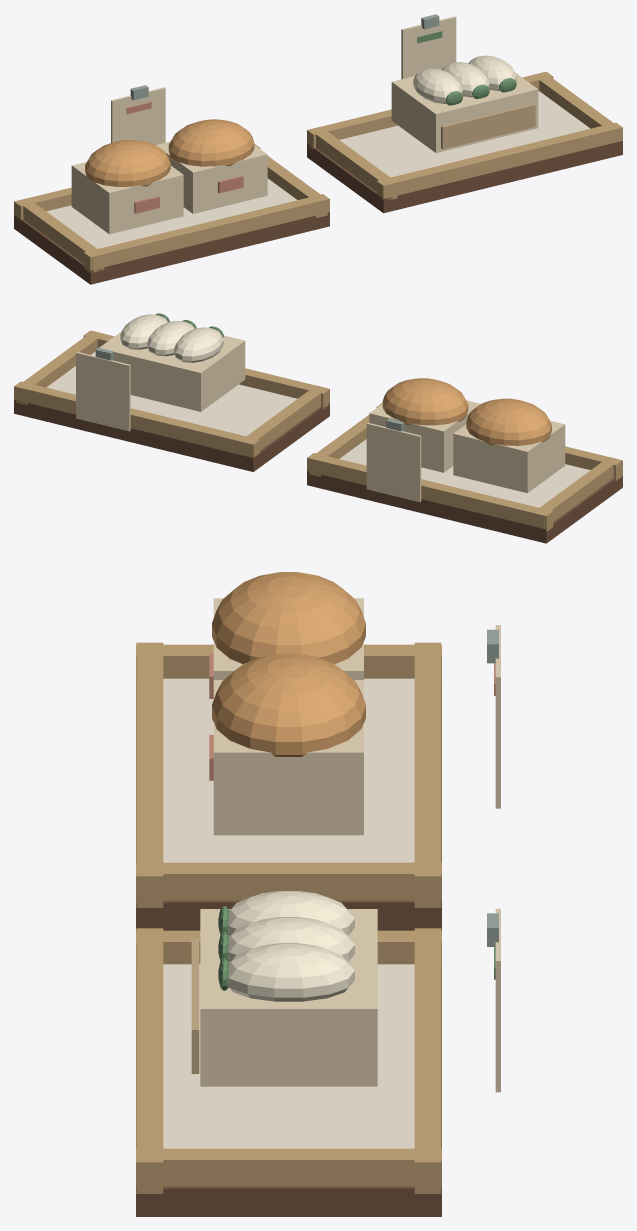
Rendered from park_kitchen_pickup_ready.glb.
The picture shows the model from 3 angles, top to bottom: view 1: azimuth 30°, elevation 25°; view 2: azimuth 150°, elevation 25°; view 3: azimuth 270°, elevation 25°; orthographic projection. The views are drawn at different scales.
Parts seen in each view (by area): view 1: rolls_tray__roll_pickup_tray_pale_wipeable_liner, boxed_rice_roll__ready_rolls_shallow_carton, rolls_tray__roll_pickup_tray_solid_base, buns_tray__bun_pickup_tray_solid_base, wrapped_bun_0__ready_bun_folded_sleeve, buns_tray__bun_pickup_tray_raised_reed_rail, rolls_tray__roll_pickup_tray_raised_reed_rail, wrapped_bun_1__ready_bun_folded_sleeve, buns_tray__bun_pickup_tray_pale_wipeable_liner, wrapped_bun_1__ready_bun_golden_dome, wrapped_bun_0__ready_bun_golden_dome, service_ticket.001 (+11 smaller); view 2: boxed_rice_roll__ready_rolls_shallow_carton, wrapped_bun_0__ready_bun_folded_sleeve, rolls_tray__roll_pickup_tray_solid_base, buns_tray__bun_pickup_tray_solid_base, rolls_tray__roll_pickup_tray_pale_wipeable_liner, service_ticket, service_ticket.001, buns_tray__bun_pickup_tray_raised_reed_rail.001, rolls_tray__roll_pickup_tray_raised_reed_rail.001, wrapped_bun_0__ready_bun_golden_dome, wrapped_bun_1__ready_bun_golden_dome, buns_tray__bun_pickup_tray_pale_wipeable_liner (+10 smaller); view 3: rolls_tray__roll_pickup_tray_pale_wipeable_liner, buns_tray__bun_pickup_tray_pale_wipeable_liner, boxed_rice_roll__ready_rolls_shallow_carton, wrapped_bun_1__ready_bun_folded_sleeve, wrapped_bun_1__ready_bun_golden_dome, wrapped_bun_0__ready_bun_golden_dome, rolls_tray__roll_pickup_tray_short_reed_rail.001, buns_tray__bun_pickup_tray_short_reed_rail.001, rolls_tray__roll_pickup_tray_solid_base, buns_tray__bun_pickup_tray_raised_reed_rail.001, buns_tray__bun_pickup_tray_raised_reed_rail, rolls_tray__roll_pickup_tray_raised_reed_rail (+11 smaller).
Boxes of the visible parts, <box> form: rolls_tray__roll_pickup_tray_pale_wipeable_liner: <box>340,91,590,177</box>; boxed_rice_roll__ready_rolls_shallow_carton: <box>391,63,538,152</box>; rolls_tray__roll_pickup_tray_solid_base: <box>307,140,622,213</box>; buns_tray__bun_pickup_tray_solid_base: <box>14,212,329,284</box>; wrapped_bun_0__ready_bun_folded_sleeve: <box>71,162,183,234</box>; buns_tray__bun_pickup_tray_raised_reed_rail: <box>83,194,329,272</box>; rolls_tray__roll_pickup_tray_raised_reed_rail: <box>376,122,622,200</box>; wrapped_bun_1__ready_bun_folded_sleeve: <box>156,141,267,213</box>; buns_tray__bun_pickup_tray_pale_wipeable_liner: <box>46,178,297,248</box>; wrapped_bun_1__ready_bun_golden_dome: <box>168,119,254,166</box>; wrapped_bun_0__ready_bun_golden_dome: <box>85,139,170,186</box>; service_ticket.001: <box>401,16,456,79</box>; boxed_rice_roll__ready_rolls_shallow_carton: <box>99,331,245,411</box>; wrapped_bun_0__ready_bun_folded_sleeve: <box>453,420,565,493</box>; rolls_tray__roll_pickup_tray_solid_base: <box>14,399,329,471</box>; buns_tray__bun_pickup_tray_solid_base: <box>307,471,622,543</box>; rolls_tray__roll_pickup_tray_pale_wipeable_liner: <box>46,351,297,436</box>; service_ticket: <box>366,422,421,502</box>; service_ticket.001: <box>76,352,130,431</box>; buns_tray__bun_pickup_tray_raised_reed_rail.001: <box>307,453,553,531</box>; rolls_tray__roll_pickup_tray_raised_reed_rail.001: <box>14,381,260,457</box>; wrapped_bun_0__ready_bun_golden_dome: <box>466,398,551,445</box>; wrapped_bun_1__ready_bun_golden_dome: <box>382,378,468,425</box>; buns_tray__bun_pickup_tray_pale_wipeable_liner: <box>340,439,590,507</box>; rolls_tray__roll_pickup_tray_pale_wipeable_liner: <box>163,964,414,1148</box>; buns_tray__bun_pickup_tray_pale_wipeable_liner: <box>163,678,414,862</box>; boxed_rice_roll__ready_rolls_shallow_carton: <box>200,909,377,1086</box>; wrapped_bun_1__ready_bun_folded_sleeve: <box>213,680,363,835</box>; wrapped_bun_1__ready_bun_golden_dome: <box>212,653,365,756</box>; wrapped_bun_0__ready_bun_golden_dome: <box>212,572,365,664</box>; rolls_tray__roll_pickup_tray_short_reed_rail.001: <box>136,1148,441,1186</box>; buns_tray__bun_pickup_tray_short_reed_rail.001: <box>136,862,441,900</box>; rolls_tray__roll_pickup_tray_solid_base: <box>136,968,441,1216</box>; buns_tray__bun_pickup_tray_raised_reed_rail.001: <box>414,642,441,907</box>; buns_tray__bun_pickup_tray_raised_reed_rail: <box>136,642,163,907</box>; rolls_tray__roll_pickup_tray_raised_reed_rail: <box>136,928,163,1193</box>.
Bounding box in the file's own units: 2.29 × 0.4015 × 0.68.
